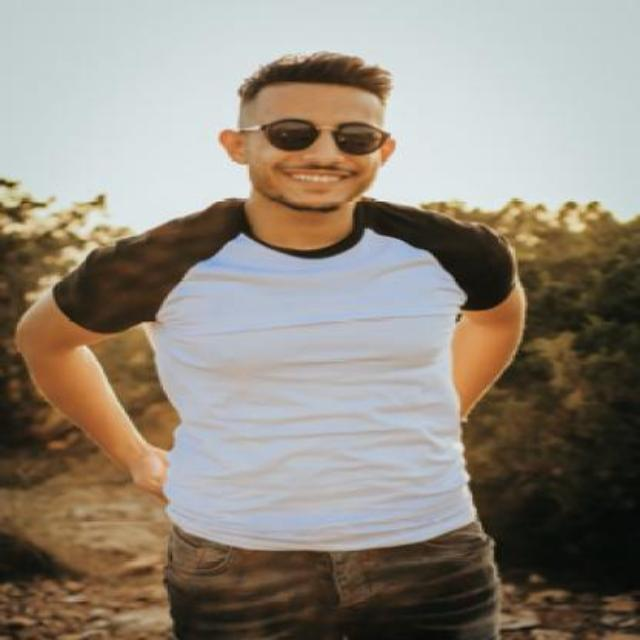glasses: (233, 118, 389, 154)
